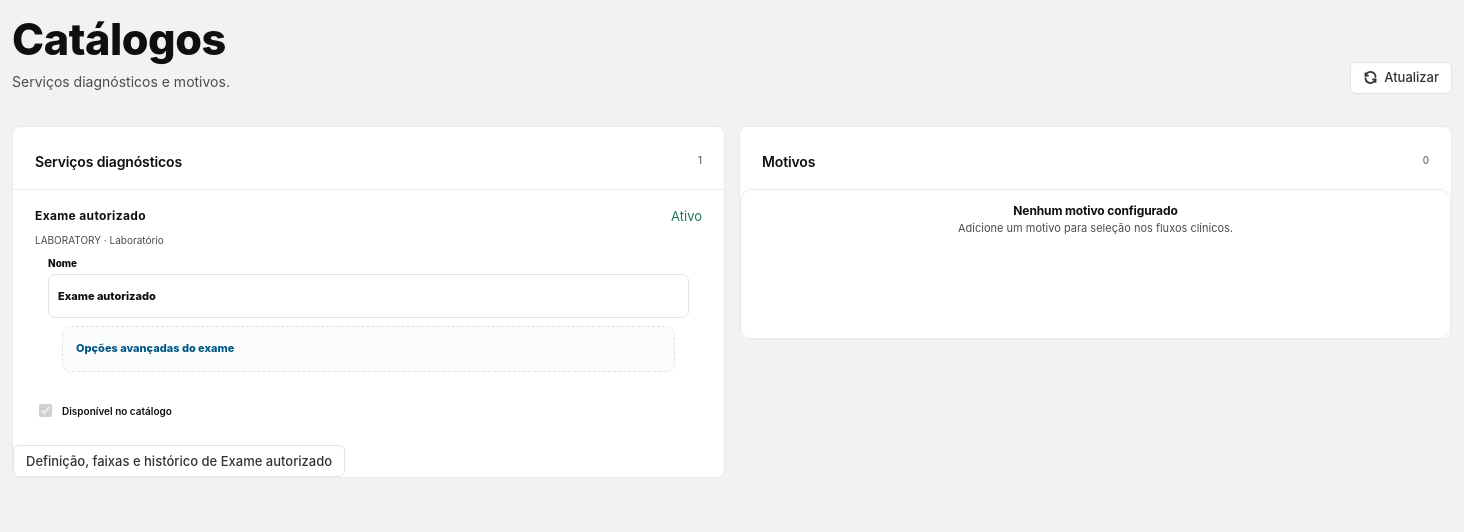
Test: Clinical catalog and privacy authority › lets a clinical catalog.view-only reader consult definitions without preparation, approval or service writes
Expected: the button "Atualizar" is shown, [1350,62,1452,94]
Click the button "Definição, faixas e histórico de Exame autorizado" at (179, 461), box [13,445,345,477]
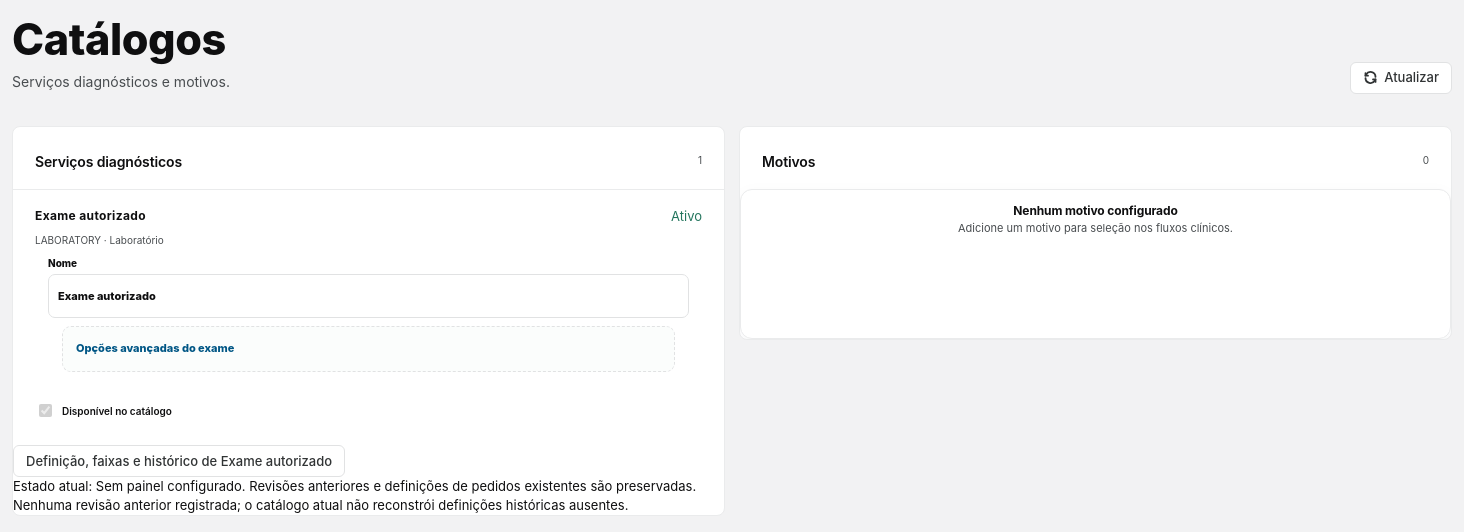
Expected: the text "Nenhuma revisão anterior registrada" is shown, [13,497,628,513]
